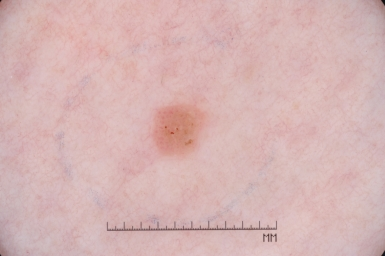seborrheic keratosis: (134, 81, 219, 170)
